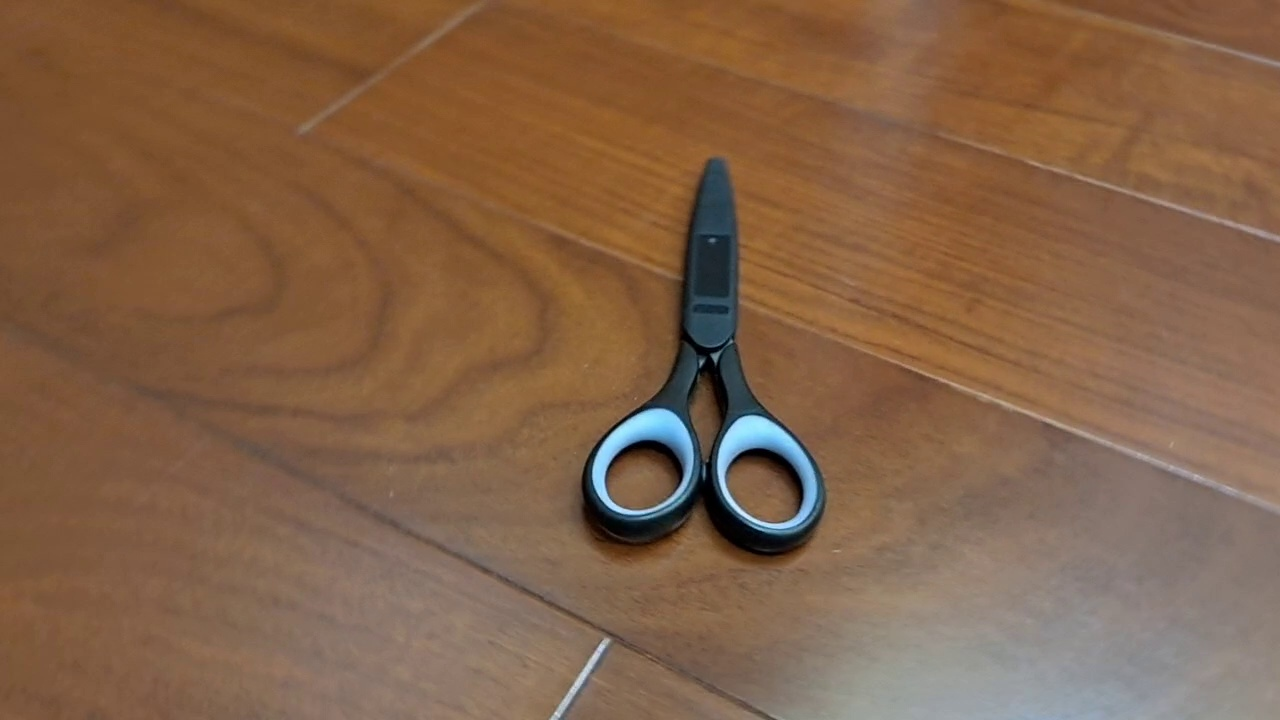scissors: (580, 155, 827, 558)
